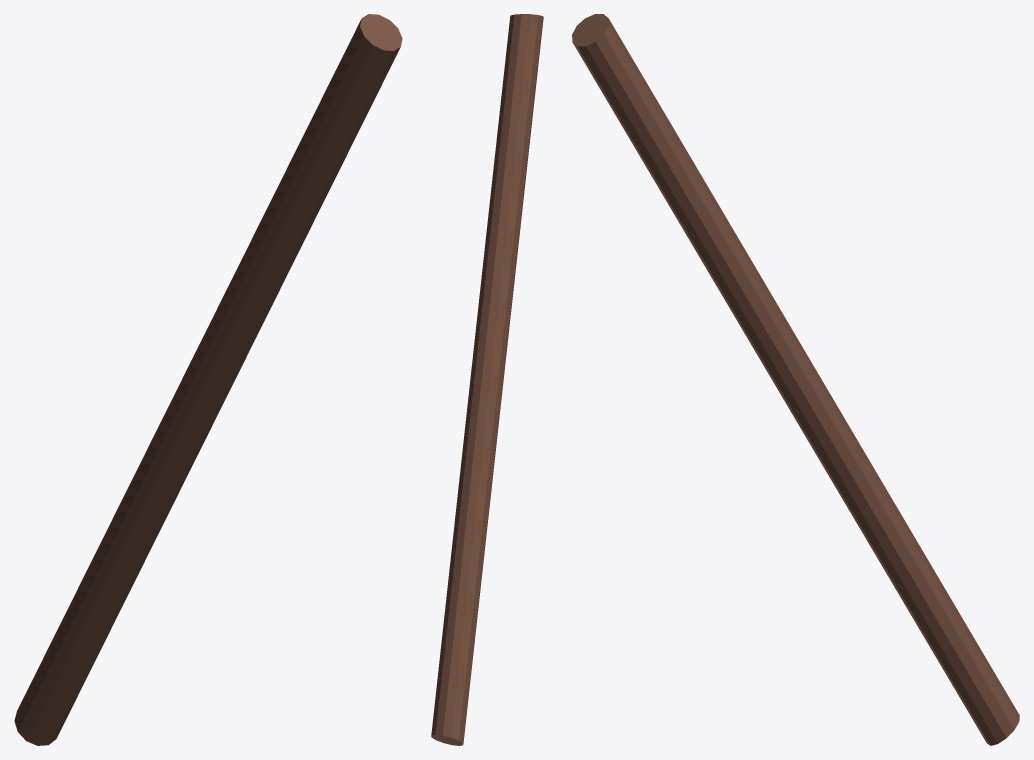
Rendered from group748549275_lev3.001.glb.
The picture shows the model from 3 angles, left to right: view 1: azimuth 30°, elevation 25°; view 2: azimuth 150°, elevation 25°; view 3: azimuth 270°, elevation 25°; orthographic projection. The views are drawn at different scales.
Parts seen in each view (by area): view 1: group748549275_lev3.001; view 2: group748549275_lev3.001; view 3: group748549275_lev3.001.
Part boxes in pixels (x1=…): group748549275_lev3.001: x1=14, y1=14, x2=402, y2=745; group748549275_lev3.001: x1=431, y1=14, x2=543, y2=745; group748549275_lev3.001: x1=572, y1=14, x2=1019, y2=745.
Size of the model in its own units: 0.3765 by 1.97 by 1.03.
